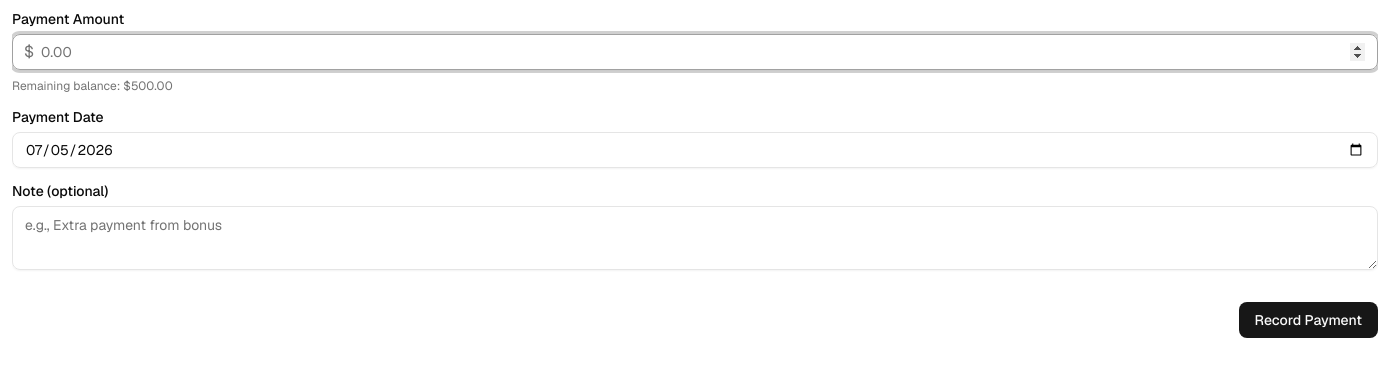
Test case: PaymentForm › requires a payment date
Type "100" into the number field with placeholder "0.00" at x=695, y=52, box 12,34 -> 1378,70
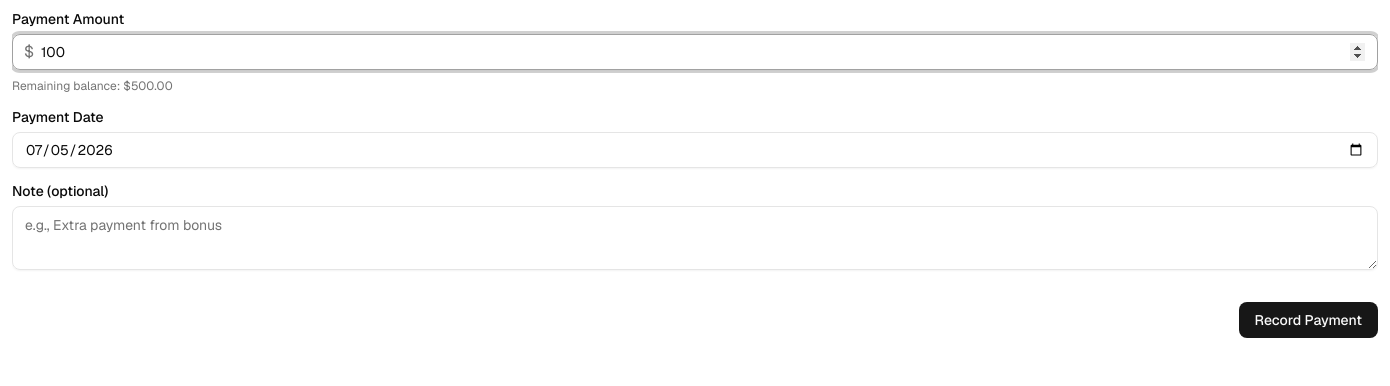
Clear the date field labelled "Payment Date" at x=695, y=150, box 12,132 -> 1378,168
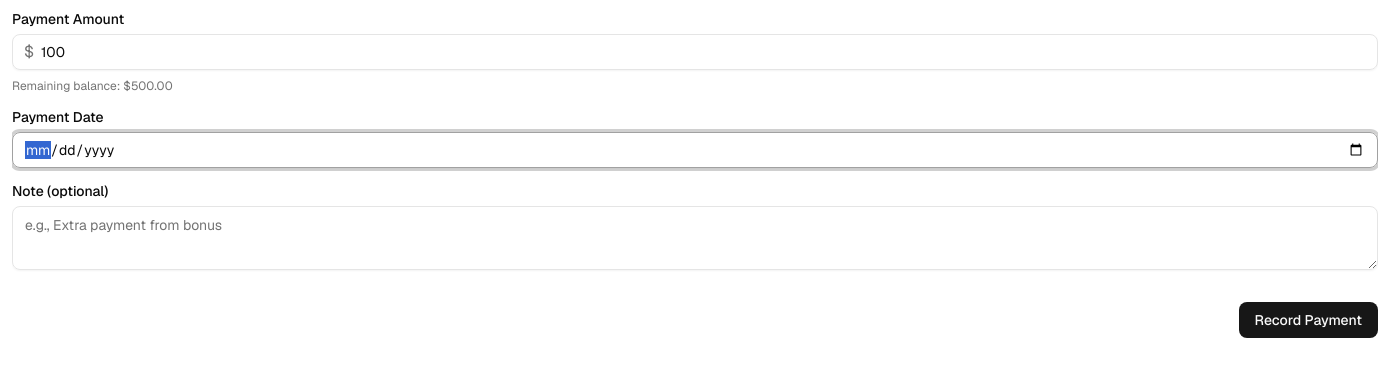
Click the button "Record Payment" at x=1308, y=320, box 1239,302 -> 1378,338
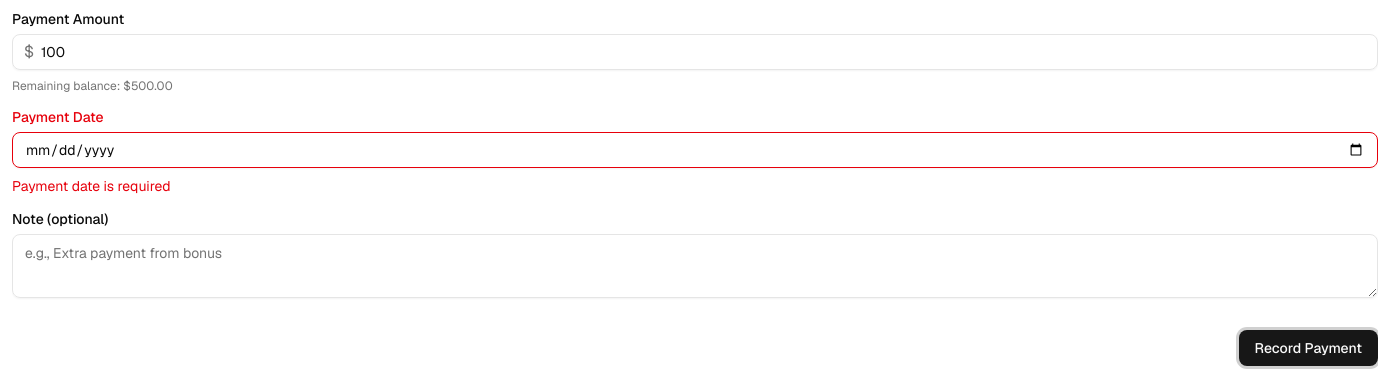
Check: the text "Payment date is required" is shown, box 12,177 -> 170,195
